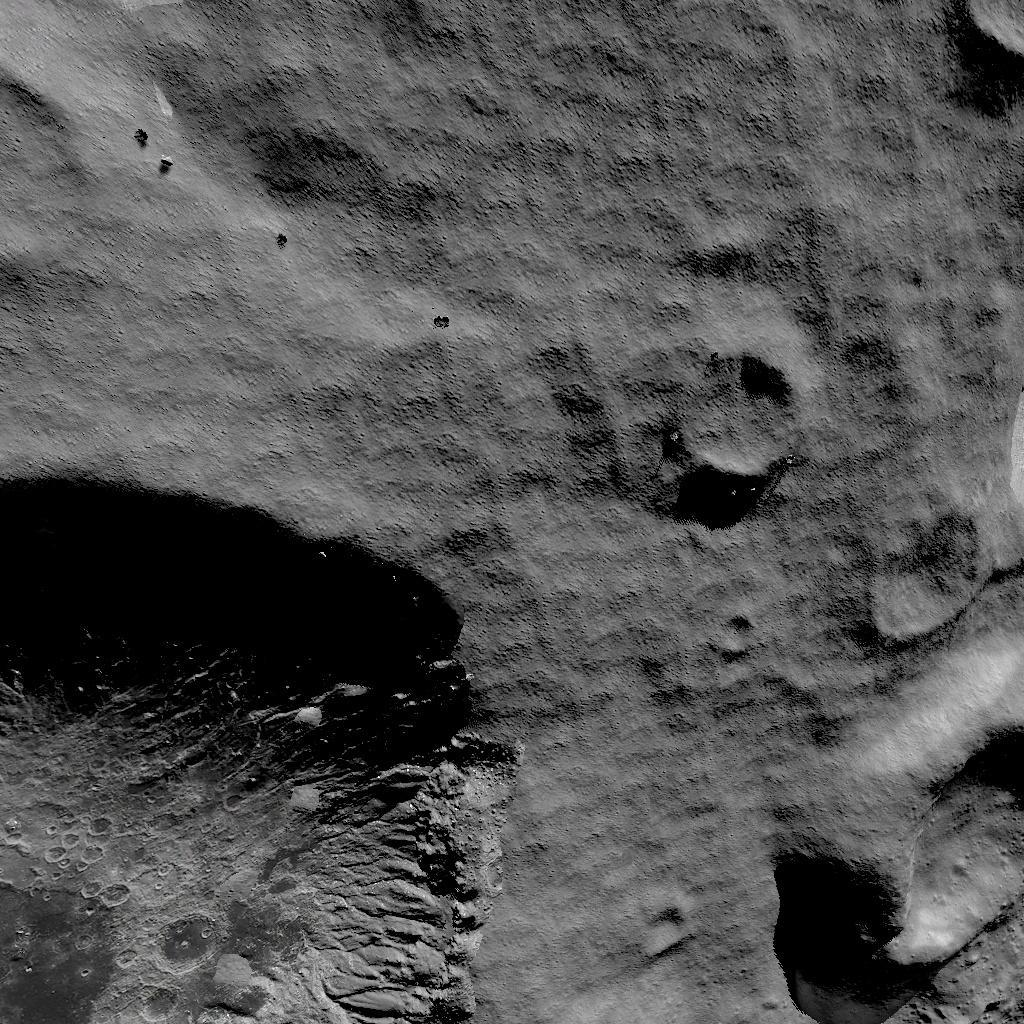Boulders: (773, 658, 1024, 1024)
Crater: (0, 470, 525, 1024), (671, 355, 803, 485), (951, 0, 1024, 118)
Plan surface: (0, 0, 638, 450), (662, 0, 926, 335), (546, 668, 755, 900)
